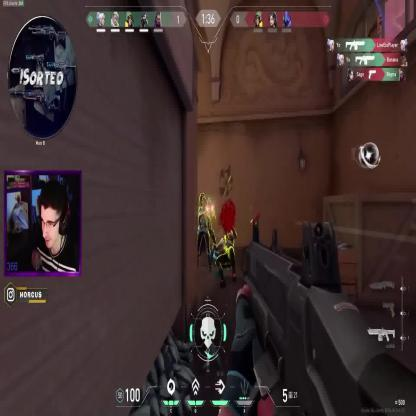enemy: (197, 194, 211, 272), (204, 196, 218, 258)
enemy_head: (200, 195, 207, 208), (206, 196, 212, 209)
